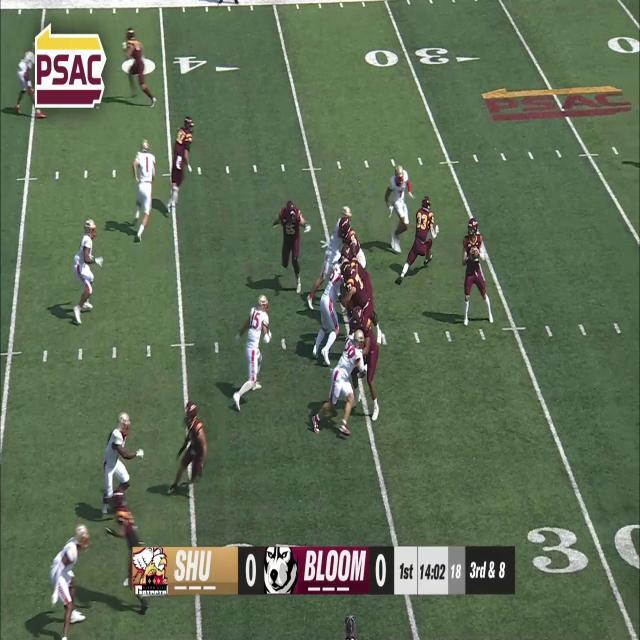football: (470, 246, 480, 262)
